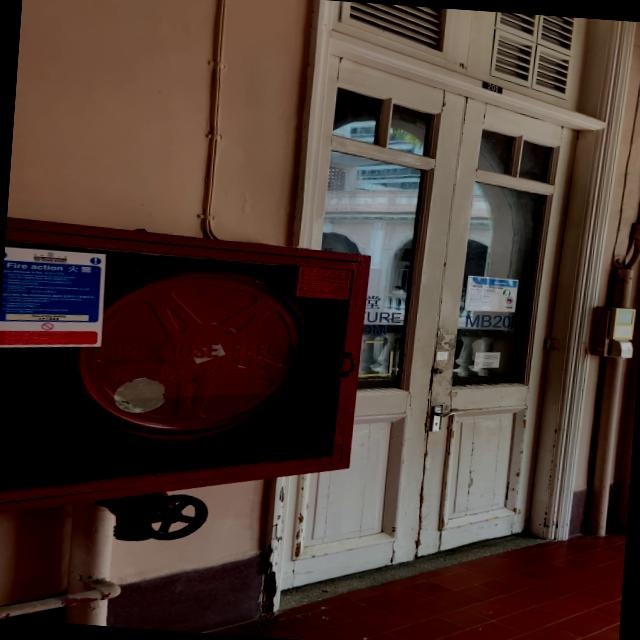room201: (478, 79, 503, 95)
room201Window: (463, 312, 522, 329)
